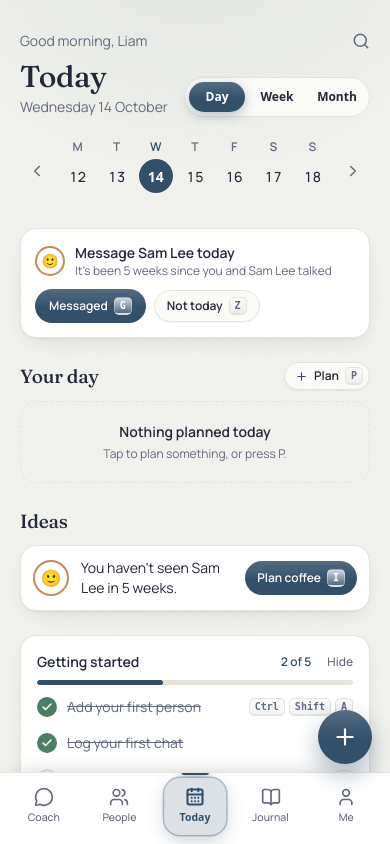
Scenario: who to message, in the evening › Messaged in it opens the quick log for them, as G does
This screenshot has width=390, height=844.
What coordinates should you click on to do the following:
click the button "Me"
I would click on:
 (346, 807)
Its box is [308,781,384,832].
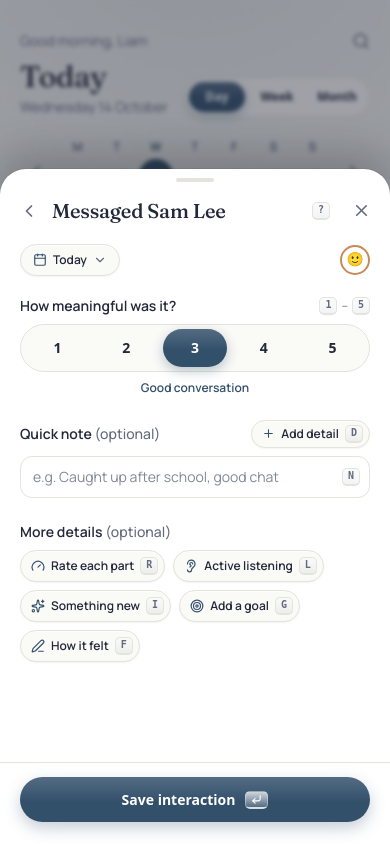
Result: the text "Messaged Sam Lee" is shown at [52,198,226,223]
